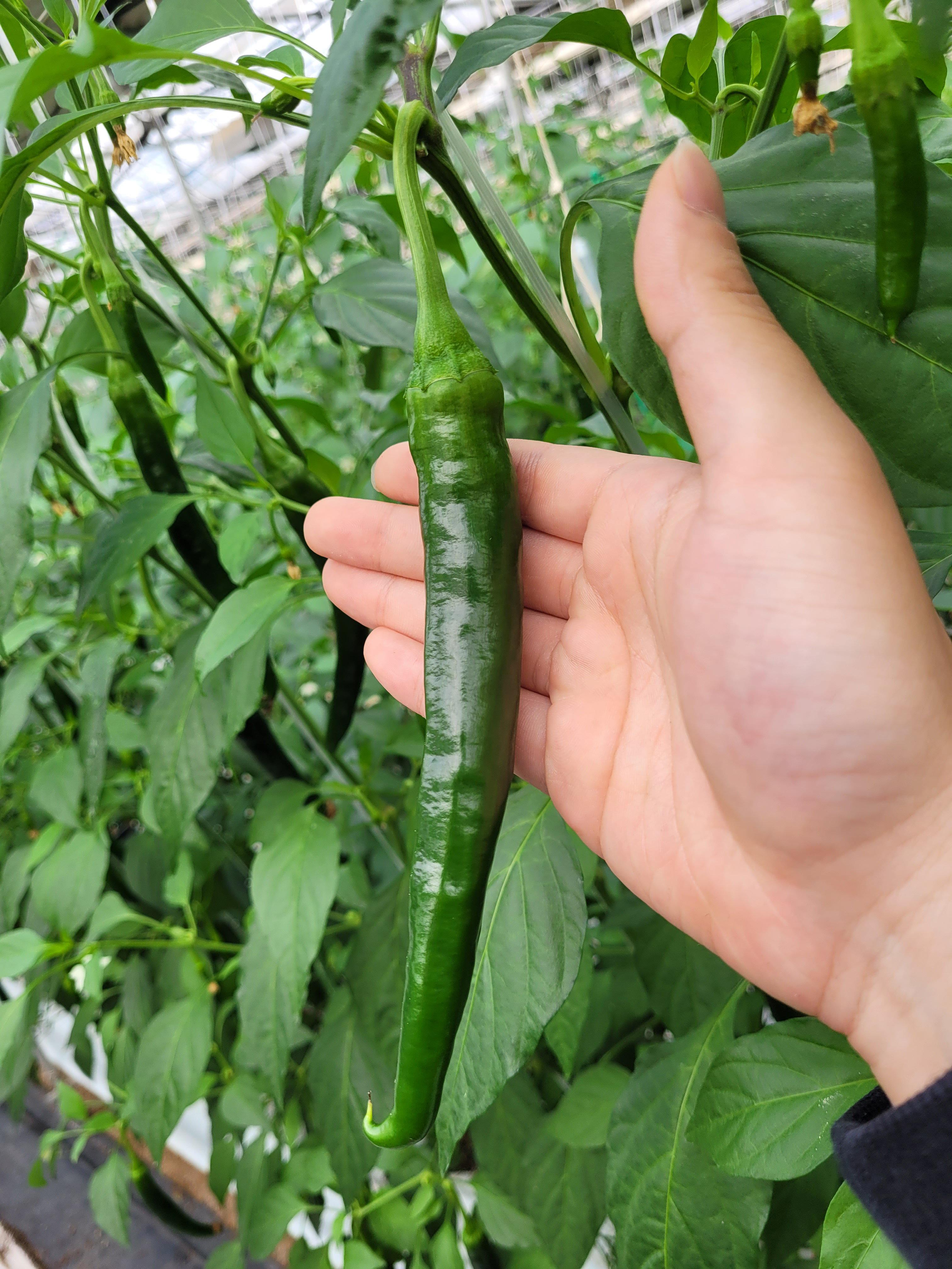Buah Cabai Sehat: (360, 325, 524, 1151)
